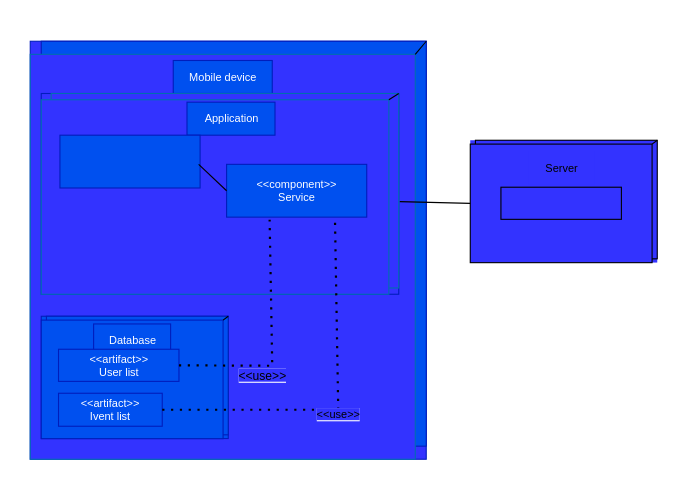
Image size: 686x499. Some labels were removed from this diagram. The centre of each missing label's shape, as x and y in pixels:
"<<component>> database" goes at pixel 560 202.
"<<component>> user inteface" goes at pixel 129 161.
